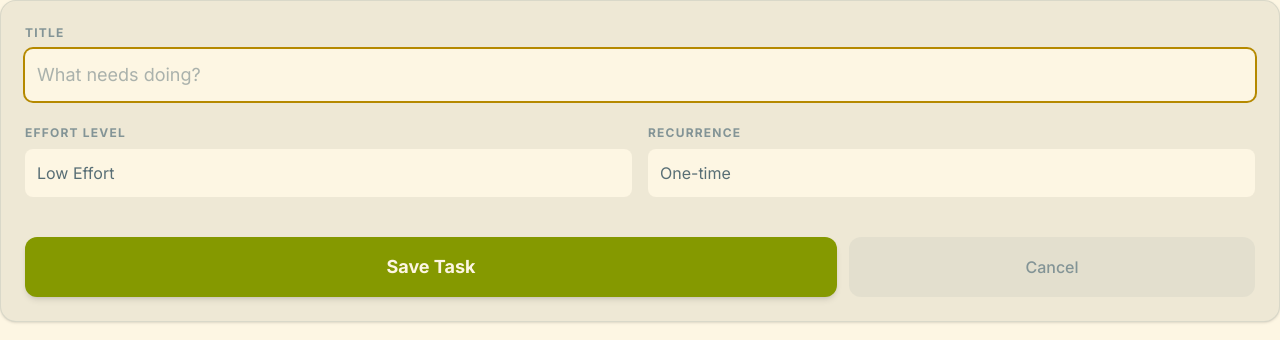
it: TaskForm › shows interval input only when recurrence is not none
Select "Days" in the dropdown labelled "Recurrence": (952, 173) [648, 149, 1255, 197]
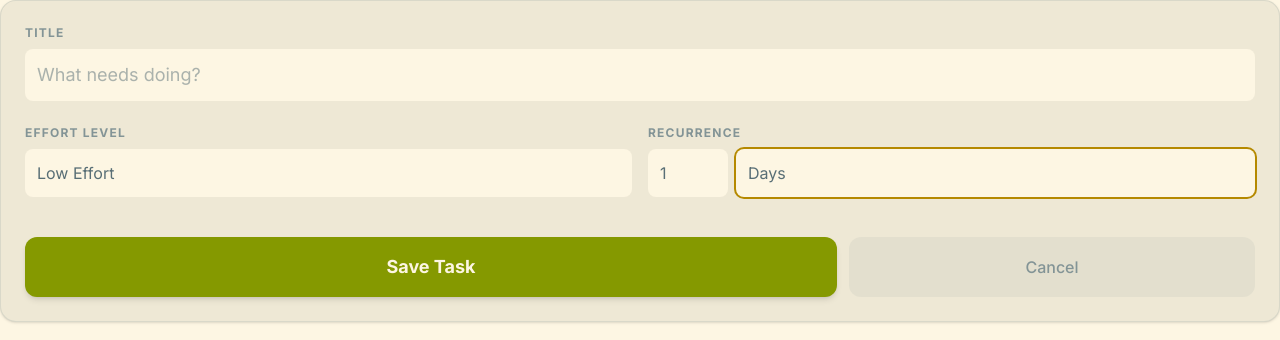
Result: the number field named "Recurrence interval" is shown at [648, 149, 728, 197]
